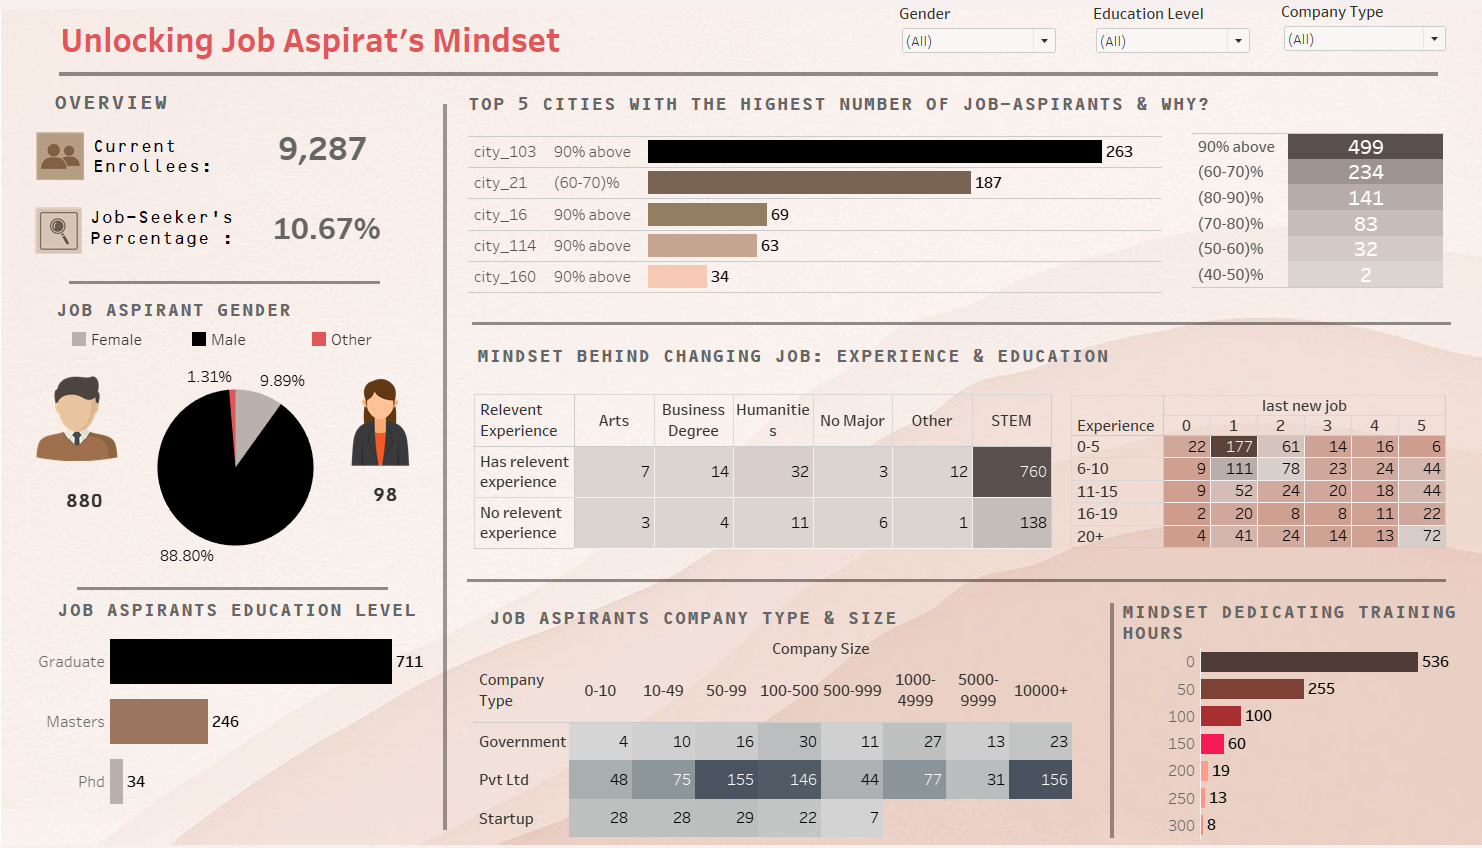

What the dashboard file says about the page in this screenshot:
{"tool":"tableau","page":{"name":"Dashboard 1","canvas":[1000,1000],"units":"permille","ordinal":0},"visuals":[{"type":"filter","title":"last job and expereince","param":"[federated.0iuhe671ovsldl18yfw7o1io6h6y].[Company Type (group)]","box":[795.1,4.8,92.3,66.2]},{"type":"filter","title":"Education and relavant experince","param":"[federated.0iuhe671ovsldl18yfw7o1io6h6y].[none:gender:nk]","box":[585.2,7.2,87.9,66.2]},{"type":"filter","title":"last job and expereince","param":"[federated.0iuhe671ovsldl18yfw7o1io6h6y].[none:education_level:nk]","box":[691.8,7.2,87.9,74.6]},{"type":"image","param":"Image/d2f35404170d6cb84e227d83394d081e.jpg","box":[4.4,9.6,991.2,980.7]},{"type":"text","box":[122.5,14.4,341.8,69.8]},{"type":"blank","box":[123.6,86.6,757.7,4.8]},{"type":"text","box":[118.7,96.3,70.3,54.1]},{"type":"text","box":[346.2,110.7,566.5,31.3]},{"type":"blank","box":[334.6,124,2.2,844.8]},{"type":"worksheet","title":"Total Employee","mark":"Automatic","box":[232.4,137.2,72.5,74.6]},{"type":"image","param":"Image/images.jpeg","box":[111,156.4,26.4,56.6]},{"type":"text","box":[140.1,156.4,76.4,60.2]},{"type":"worksheet","title":"City index count","mark":"Square","box":[746.1,157.6,138.5,180.5]},{"type":"worksheet","title":"City","mark":"Automatic","rows":["city"],"cols":["target"],"box":[348.4,161.2,381.3,182.9]},{"type":"worksheet","title":"Employee looking for job change","mark":"Automatic","box":[236.8,232.2,65.4,69.8]},{"type":"image","param":"Image/images.png","box":[110.4,243.1,25.8,57.8]},{"type":"text","box":[138.5,245.5,83.5,50.5]},{"type":"blank","box":[129.1,329.7,170.9,3.6]},{"type":"text","box":[119.8,347.8,133.5,36.1]},{"type":"blank","box":[350.6,377.9,537.9,3.6]},{"type":"legend","title":"Gender Analysis","param":"[federated.0iuhe671ovsldl18yfw7o1io6h6y].[none:gender:nk]","box":[89.6,386.3,257.1,37.3]},{"type":"text","box":[351.1,399.5,428,39.7]},{"type":"worksheet","title":"Gender Analysis","mark":"Pie","box":[161,421.2,119.2,252.7]},{"type":"image","param":"Image/802007_man_512x512.png","box":[109.9,426,46.7,128.8]},{"type":"image","param":"Image/pngtree-avatar-the-icon-of-a-female-employee-wearing-suit-png-image_613390","box":[269.2,432,61.5,122.7]},{"type":"worksheet","title":"Education and relavant experince","mark":"Square","rows":["relevent_experience"],"cols":["major_discipline"],"box":[351.7,462.1,317.6,180.5]},{"type":"worksheet","title":"last job and expereince","mark":"Square","box":[679.7,463.3,206,178.1]},{"type":"worksheet","title":"Male cont","mark":"Text","rows":["gender"],"box":[106,558.4,43.4,60.2]},{"type":"worksheet","title":"Female count","mark":"Text","rows":["gender"],"box":[285.7,565.6,24.2,31.3]},{"type":"blank","box":[347.8,676.3,537.9,3.6]},{"type":"blank","box":[133.5,685.9,170.9,3.6]},{"type":"text","box":[120.3,696.8,251.1,36.1]},{"type":"text","box":[705.5,696.8,192.3,66.2]},{"type":"blank","box":[701.1,705.2,2.2,273.2]},{"type":"text","box":[357.7,706.4,283,36.1]},{"type":"worksheet","title":"Education level of job seekers","mark":"Automatic","rows":["education_level"],"cols":["target"],"box":[107.7,737.7,225.8,209.4]},{"type":"worksheet","title":"cOMPANY TYPE AND SIZE","mark":"Square","box":[351.1,744.9,330.2,232.2]},{"type":"worksheet","title":"TRAINING","mark":"Automatic","rows":["Training Hours (bin)"],"cols":["target"],"box":[706.6,756.9,189,222.6]}]}

Visuals, with their boxes on the dashboard's canvas, which has no fixed pixel size, in thousandths of its width and height (x1, y1, x2, y2). These are canvas units, not pixel positions in the 1482x848 screenshot, which may show the page scaled, cropped or inside an application window:
"last job and expereince" filter: <region>795, 5, 887, 71</region>
"Education and relavant experince" filter: <region>585, 7, 673, 73</region>
"last job and expereince" filter: <region>692, 7, 780, 82</region>
image: <region>4, 10, 996, 990</region>
text: <region>122, 14, 464, 84</region>
blank: <region>124, 87, 881, 91</region>
text: <region>119, 96, 189, 150</region>
text: <region>346, 111, 913, 142</region>
blank: <region>335, 124, 337, 969</region>
"Total Employee" worksheet: <region>232, 137, 305, 212</region>
image: <region>111, 156, 137, 213</region>
text: <region>140, 156, 216, 217</region>
"City index count" worksheet (Square marks): <region>746, 158, 885, 338</region>
"City" worksheet: <region>348, 161, 730, 344</region>
"Employee looking for job change" worksheet: <region>237, 232, 302, 302</region>
image: <region>110, 243, 136, 301</region>
text: <region>138, 246, 222, 296</region>
blank: <region>129, 330, 300, 333</region>
text: <region>120, 348, 253, 384</region>
blank: <region>351, 378, 888, 382</region>
"Gender Analysis" legend: <region>90, 386, 347, 424</region>
text: <region>351, 400, 779, 439</region>
"Gender Analysis" worksheet (Pie marks): <region>161, 421, 280, 674</region>
image: <region>110, 426, 157, 555</region>
image: <region>269, 432, 331, 555</region>
"Education and relavant experince" worksheet (Square marks): <region>352, 462, 669, 643</region>
"last job and expereince" worksheet (Square marks): <region>680, 463, 886, 641</region>
"Male cont" worksheet (Text marks): <region>106, 558, 149, 619</region>
"Female count" worksheet (Text marks): <region>286, 566, 310, 597</region>
blank: <region>348, 676, 886, 680</region>
blank: <region>134, 686, 304, 690</region>
text: <region>120, 697, 371, 733</region>
text: <region>706, 697, 898, 763</region>
blank: <region>701, 705, 703, 978</region>
text: <region>358, 706, 641, 742</region>
"Education level of job seekers" worksheet: <region>108, 738, 334, 947</region>
"cOMPANY TYPE AND SIZE" worksheet (Square marks): <region>351, 745, 681, 977</region>
"TRAINING" worksheet: <region>707, 757, 896, 980</region>
